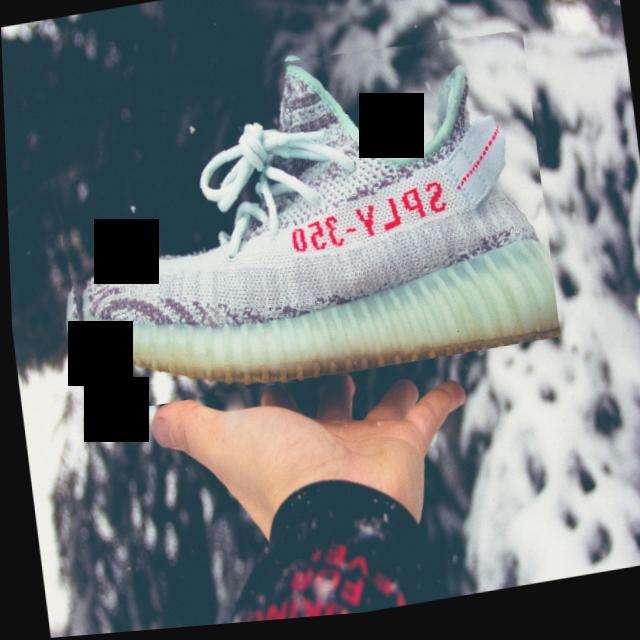shoe: (31, 18, 559, 422)
